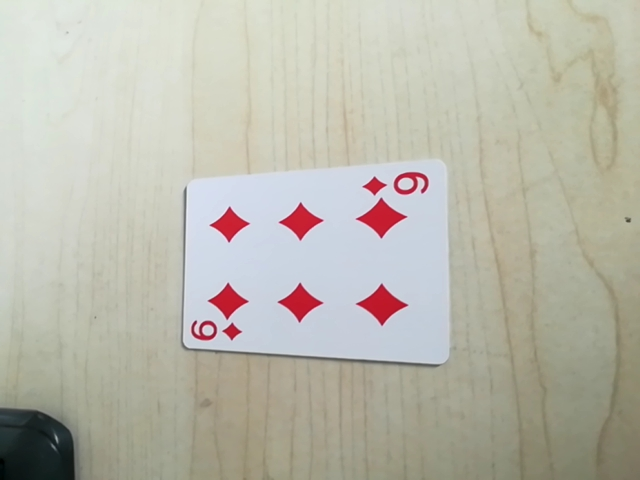fk 6: (360, 164, 435, 203), (187, 316, 246, 348)
